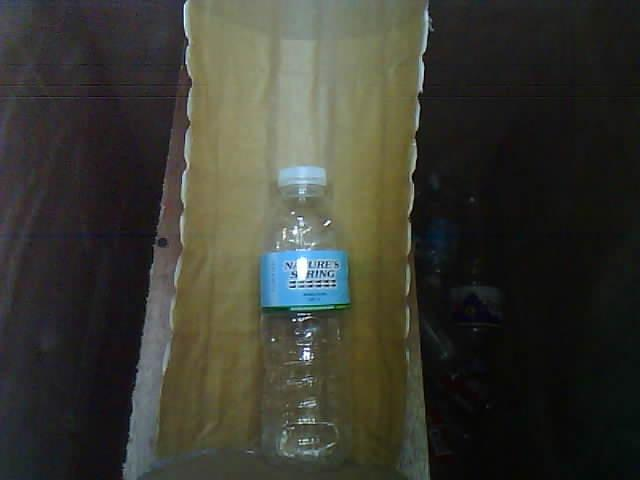small_bottle: (237, 156, 375, 480)
